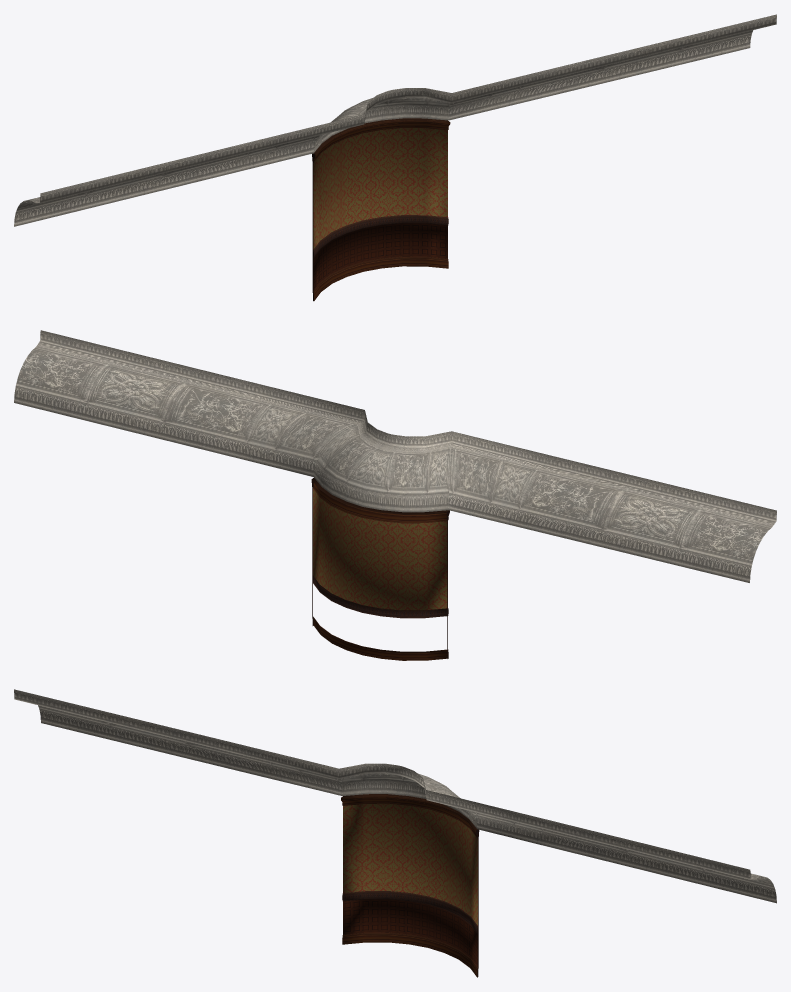
File: CurvedWallwCeilingSmaller.fbx
The picture shows the model from 3 angles, top to bottom: view 1: azimuth 30°, elevation 25°; view 2: azimuth 150°, elevation 25°; view 3: azimuth 330°, elevation 25°; orthographic projection.
Parts seen in each view (by area): view 1: CeilingCurved for wallCurve.001, WallSection1Med.001; view 2: CeilingCurved for wallCurve.001, WallSection1Med.001; view 3: CeilingCurved for wallCurve.001, WallSection1Med.001.
Boxes of the visible parts, left/top/right/bottom form: CeilingCurved for wallCurve.001: left=14, top=14, right=776, bottom=226; WallSection1Med.001: left=312, top=118, right=450, bottom=301; CeilingCurved for wallCurve.001: left=14, top=330, right=776, bottom=582; WallSection1Med.001: left=311, top=478, right=449, bottom=660; CeilingCurved for wallCurve.001: left=14, top=689, right=776, bottom=903; WallSection1Med.001: left=341, top=794, right=479, bottom=977.
Size of what is drawn, in the model's own units: 1937 by 506 by 219.
